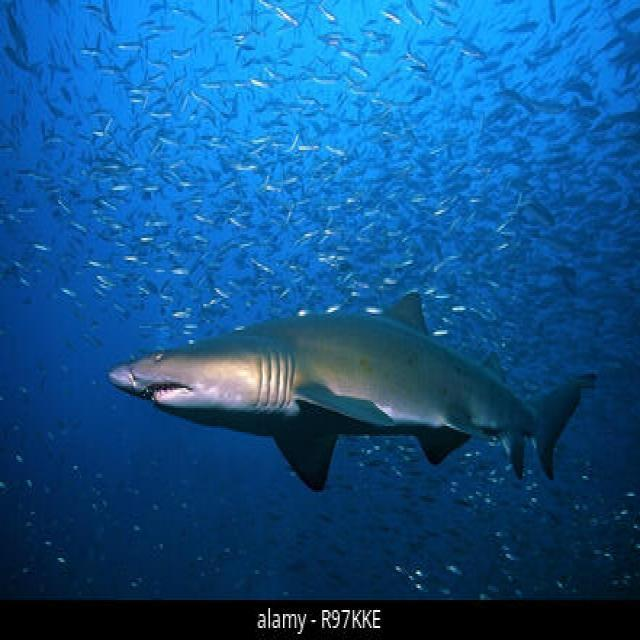Shark: (104, 244, 604, 500)
